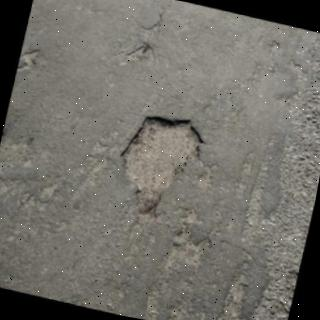pothole: (121, 117, 203, 214)
